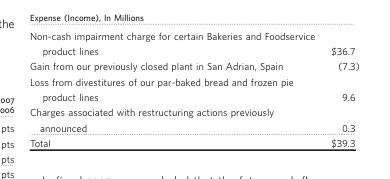table: (28, 29, 358, 148)
table column: (28, 29, 322, 148), (322, 29, 358, 148)
table row: (28, 103, 358, 134), (28, 73, 358, 103), (28, 29, 358, 58), (28, 58, 358, 73), (28, 134, 358, 148)
